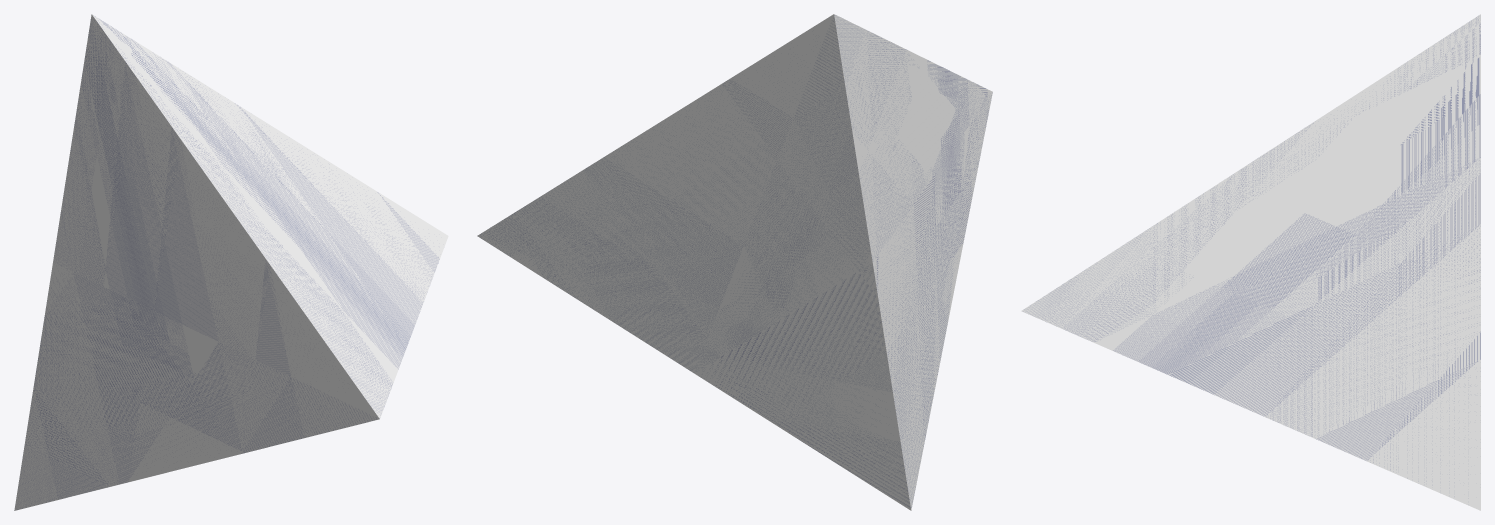
Rendered from Tetraedro.fbx.
3 renders of one model, left to right at view 1: azimuth 30°, elevation 25°; view 2: azimuth 150°, elevation 25°; view 3: azimuth 270°, elevation 25°, orthographic. The views are drawn at different scales.
Visible parts, largest first — view 1: group_0; view 2: group_0; view 3: group_0.
Part boxes in pixels (<box>): group_0: <box>14,14,448,510</box>; group_0: <box>477,14,992,510</box>; group_0: <box>1021,14,1480,510</box>.
Size of the model in its own units: 124 by 131 by 111.
